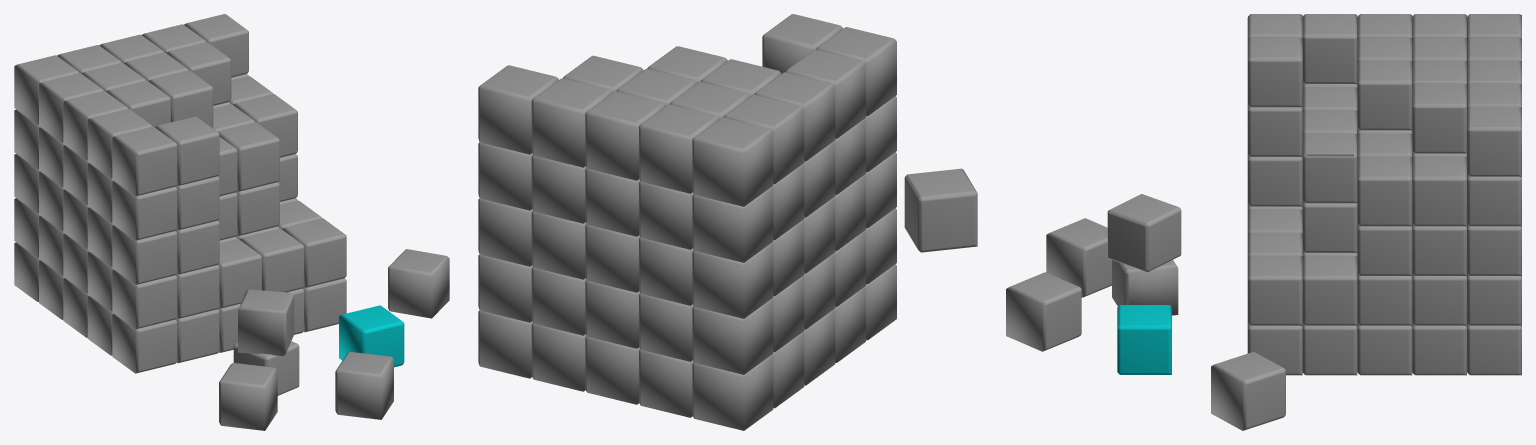
Rendered from cubes.glb.
3 renders of one model, left to right at view 1: azimuth 30°, elevation 25°; view 2: azimuth 150°, elevation 25°; view 3: azimuth 270°, elevation 25°, orthographic. The views are drawn at different scales.
Visible parts, largest first — view 1: Cube, Cube.003, Cube.004, Cube.005, Cube.006, Cube.001, Cube.002; view 2: Cube, Cube.005; view 3: Cube, Cube.004, Cube.003, Cube.006, Cube.005, Cube.001, Cube.002.
Part boxes in pixels (x1=…): Cube: x1=14, y1=14, x2=346, y2=373; Cube.003: x1=388, y1=249, x2=449, y2=318; Cube.004: x1=335, y1=352, x2=393, y2=419; Cube.005: x1=219, y1=363, x2=277, y2=430; Cube.006: x1=238, y1=289, x2=294, y2=355; Cube.001: x1=339, y1=305, x2=404, y2=367; Cube.002: x1=233, y1=341, x2=299, y2=395; Cube: x1=478, y1=14, x2=896, y2=430; Cube.005: x1=904, y1=168, x2=977, y2=252; Cube: x1=1247, y1=14, x2=1521, y2=375; Cube.004: x1=1006, y1=272, x2=1081, y2=351; Cube.003: x1=1211, y1=352, x2=1285, y2=430; Cube.006: x1=1107, y1=194, x2=1181, y2=272; Cube.005: x1=1046, y1=218, x2=1111, y2=297; Cube.001: x1=1117, y1=305, x2=1171, y2=374; Cube.002: x1=1112, y1=260, x2=1178, y2=315.
Bounding box in the file's own units: 14.69 × 10 × 18.82.
